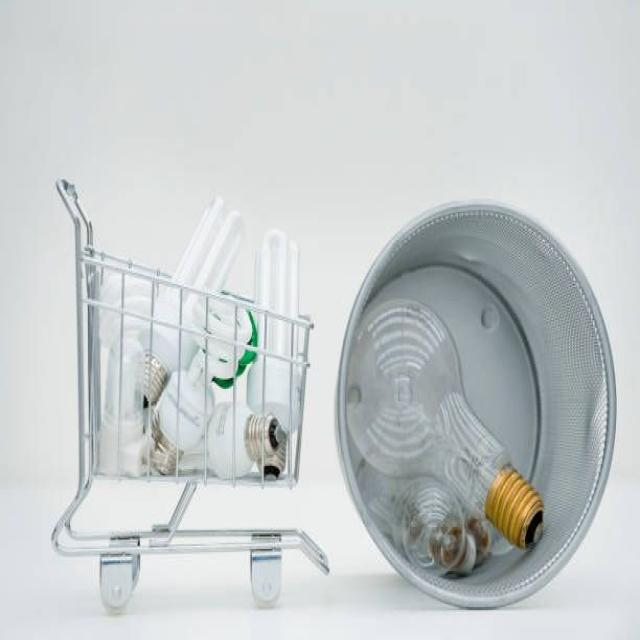electronic: (334, 199, 616, 609), (94, 198, 299, 483), (343, 293, 545, 576), (148, 367, 215, 475), (205, 400, 288, 480)
